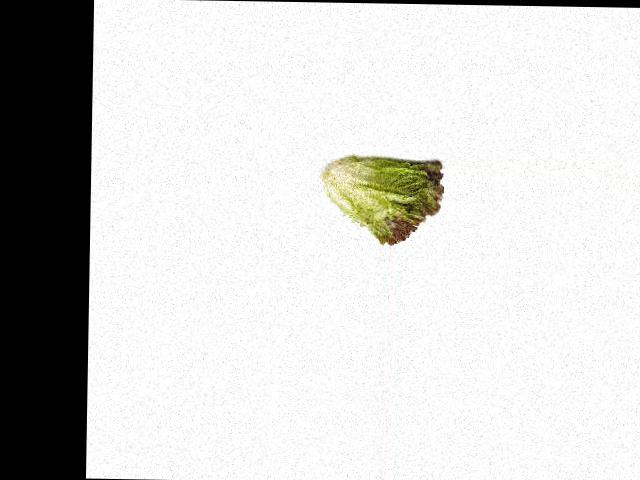lettuce: (321, 157, 446, 244)
